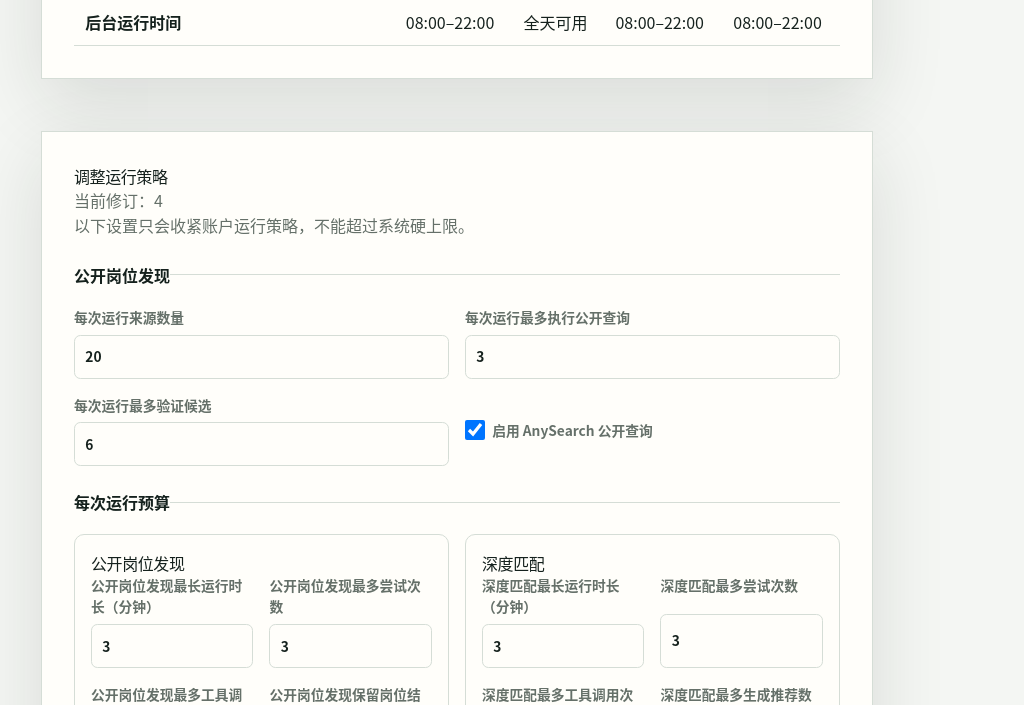
it: 保存更保守的可信来源上限时携带完整设置和当前修订，并显示新修订
(page scrolled)
Step 1. Replace the text in the number field labelled "每次运行来源数量" with "12" → (262, 356), box [74,334,449,378]
(page scrolled)
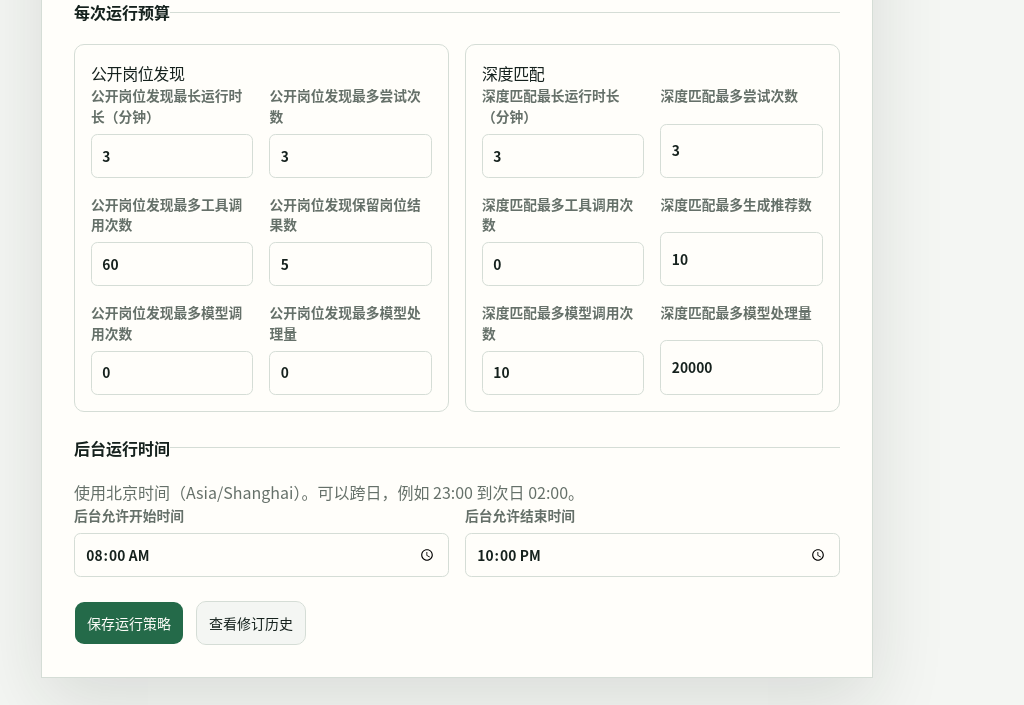
Step 2. Click the button "保存运行策略" → (129, 623), box [74,601,184,645]
(page scrolled)
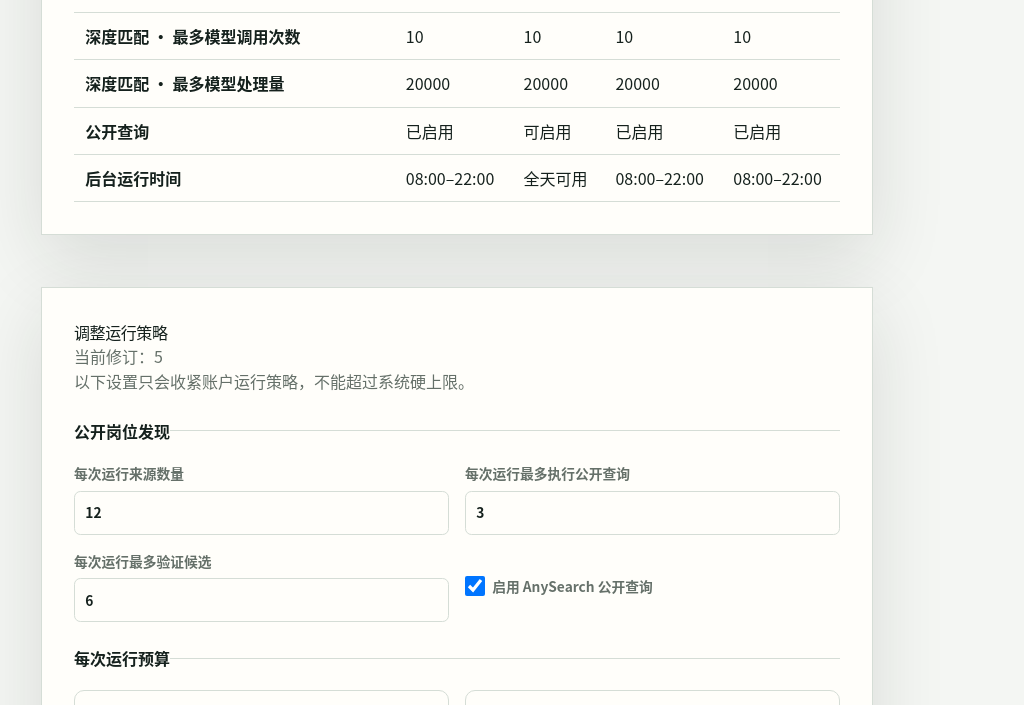
Expected: the text "当前修订：5" is shown, [74,344,163,368]
